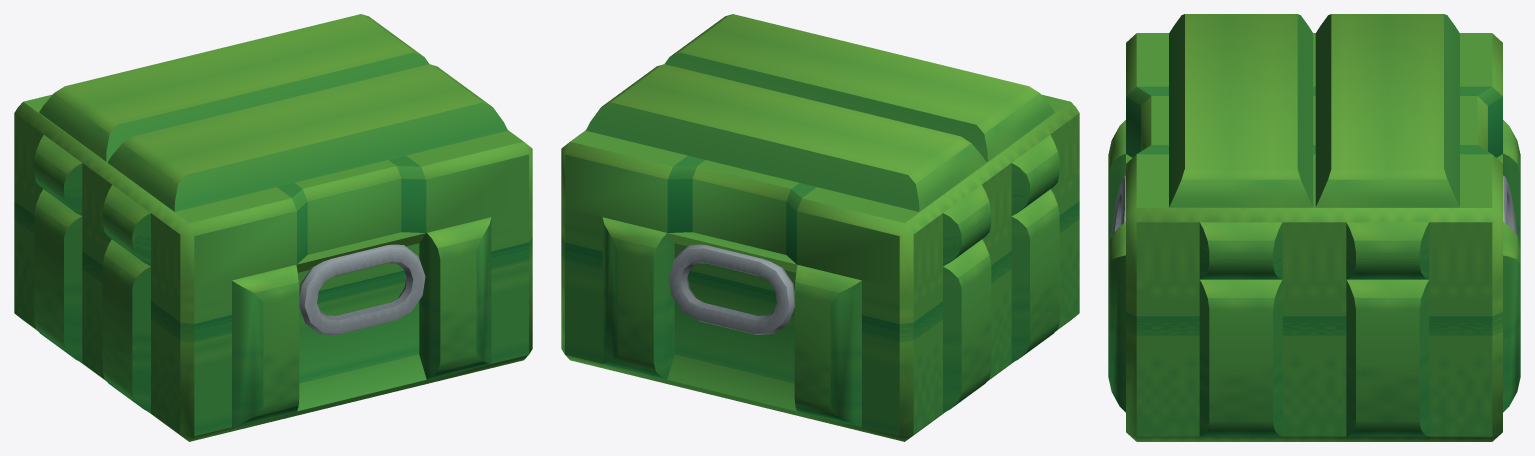
The model's file is Containers_Crate_Small_Green.gltf.
3 renders of one model, left to right at view 1: azimuth 30°, elevation 25°; view 2: azimuth 150°, elevation 25°; view 3: azimuth 270°, elevation 25°, orthographic. The views are drawn at different scales.
Visible parts, largest first — view 1: Containers_Crate_Small_Green; view 2: Containers_Crate_Small_Green; view 3: Containers_Crate_Small_Green.
Boxes of the visible parts, x1,y1,x2,y2 form: Containers_Crate_Small_Green: [14, 14, 532, 441]; Containers_Crate_Small_Green: [561, 14, 1079, 441]; Containers_Crate_Small_Green: [1108, 14, 1520, 441].
Bounding box in the file's own units: 0.81 × 0.5003 × 0.71.
1 material, 1 textured.
